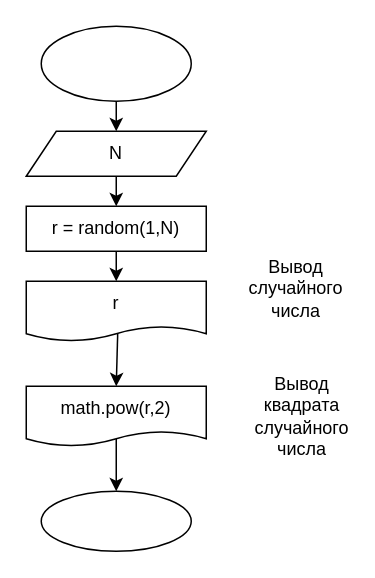
This 375x578 diagram has some shape labels left out. The shapes that lost their labels are listed below. From the top down, each one's centre as x and y in pixels, then its label:
At point 115,63: "START".
At point 115,520: "END".
